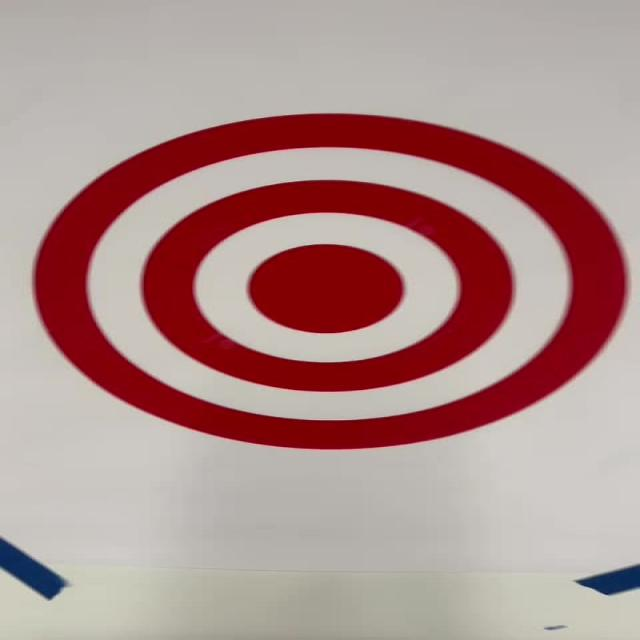target_red: (39, 115, 628, 452)
